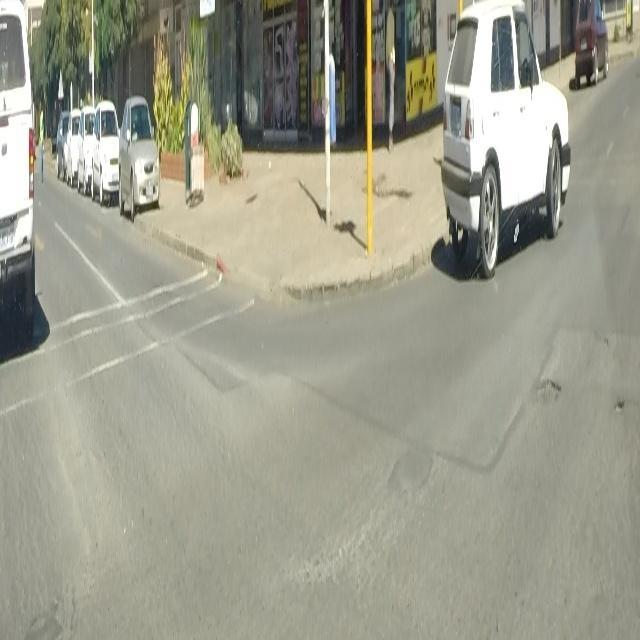pothole: (532, 374, 562, 406), (612, 392, 626, 413)
